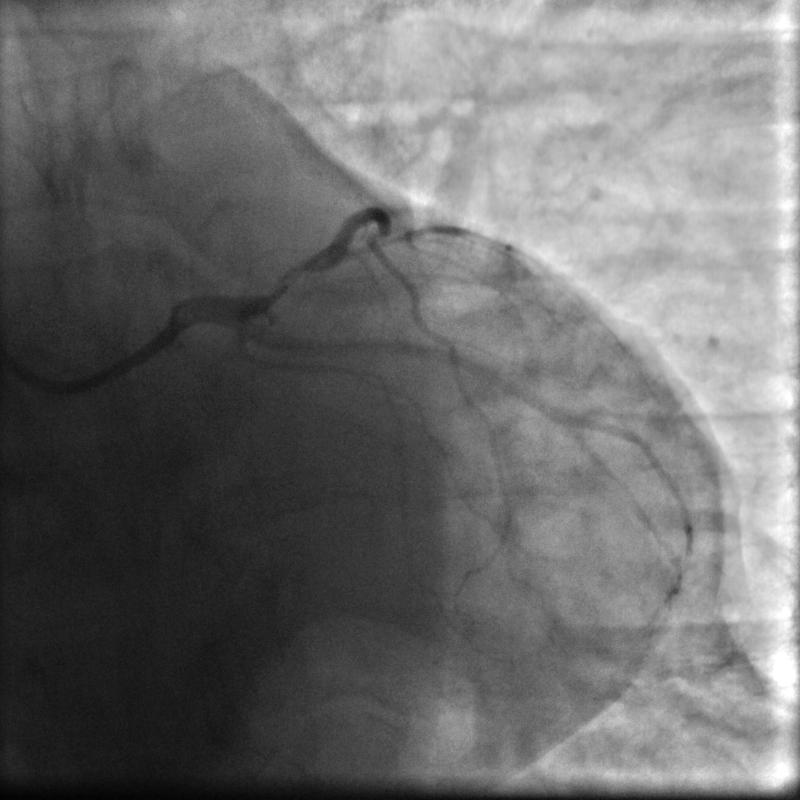Stenosis: (252, 257, 323, 295)
